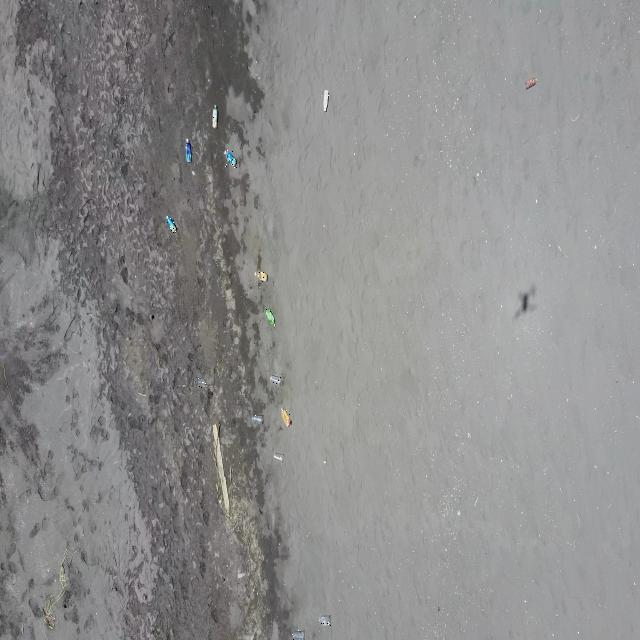plastic-bottle: (224, 149, 237, 168), (265, 308, 276, 327), (282, 408, 292, 427), (185, 138, 192, 164), (166, 216, 176, 234), (323, 90, 330, 112), (212, 105, 218, 129), (255, 271, 268, 282)
takeaway-cup: (319, 615, 331, 626), (251, 414, 263, 425), (195, 376, 206, 388), (269, 376, 281, 386), (292, 630, 304, 640), (274, 452, 284, 462)
